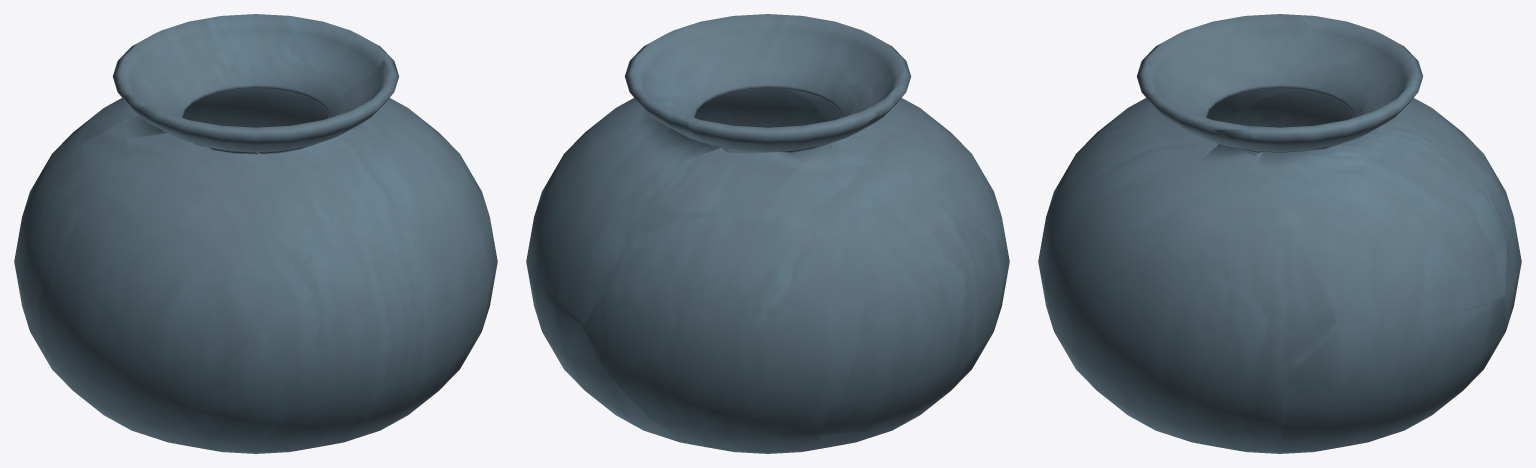
The model's file is Breakable_Ceramic_Vase_A_03.fbx.
3 renders of one model, left to right at view 1: azimuth 30°, elevation 25°; view 2: azimuth 150°, elevation 25°; view 3: azimuth 270°, elevation 25°, orthographic.
Visible parts, largest first — view 1: Breakable_Ceramic_Vase_A_03_Body, Breakable_Ceramic_Vase_A_03_cell, Breakable_Ceramic_Vase_A_03_cell.012, Breakable_Ceramic_Vase_A_03_cell.006, Breakable_Ceramic_Vase_A_03_cell.015, Breakable_Ceramic_Vase_A_03_cell.017, Breakable_Ceramic_Vase_A_03_cell.009, Breakable_Ceramic_Vase_A_03_cell.003; view 2: Breakable_Ceramic_Vase_A_03_cell.003, Breakable_Ceramic_Vase_A_03_Body, Breakable_Ceramic_Vase_A_03_cell, Breakable_Ceramic_Vase_A_03_cell.013, Breakable_Ceramic_Vase_A_03_cell.006, Breakable_Ceramic_Vase_A_03_cell.004, Breakable_Ceramic_Vase_A_03_cell.012, Breakable_Ceramic_Vase_A_03_cell.009, Breakable_Ceramic_Vase_A_03_cell.011, Breakable_Ceramic_Vase_A_03_cell.017, Breakable_Ceramic_Vase_A_03_cell.016, Breakable_Ceramic_Vase_A_03_cell.008 (+1 smaller); view 3: Breakable_Ceramic_Vase_A_03_Body, Breakable_Ceramic_Vase_A_03_cell.013, Breakable_Ceramic_Vase_A_03_cell.004, Breakable_Ceramic_Vase_A_03_cell.011, Breakable_Ceramic_Vase_A_03_cell.003, Breakable_Ceramic_Vase_A_03_cell.016, Breakable_Ceramic_Vase_A_03_cell.006, Breakable_Ceramic_Vase_A_03_cell.014, Breakable_Ceramic_Vase_A_03_cell.001, Breakable_Ceramic_Vase_A_03_cell.009, Breakable_Ceramic_Vase_A_03_cell.017, Breakable_Ceramic_Vase_A_03_cell.015 (+1 smaller).
Boxes of the visible parts, box(x1,y1,x2,y2) form: Breakable_Ceramic_Vase_A_03_Body: box(22, 14, 497, 453); Breakable_Ceramic_Vase_A_03_cell: box(14, 178, 119, 410); Breakable_Ceramic_Vase_A_03_cell.012: box(70, 78, 217, 189); Breakable_Ceramic_Vase_A_03_cell.006: box(260, 60, 390, 153); Breakable_Ceramic_Vase_A_03_cell.015: box(136, 104, 193, 141); Breakable_Ceramic_Vase_A_03_cell.017: box(112, 33, 214, 91); Breakable_Ceramic_Vase_A_03_cell.009: box(60, 108, 136, 160); Breakable_Ceramic_Vase_A_03_cell.003: box(25, 110, 100, 206); Breakable_Ceramic_Vase_A_03_cell.003: box(585, 213, 867, 442); Breakable_Ceramic_Vase_A_03_Body: box(530, 22, 1009, 452); Breakable_Ceramic_Vase_A_03_cell: box(842, 211, 1008, 429); Breakable_Ceramic_Vase_A_03_cell.013: box(531, 34, 720, 324); Breakable_Ceramic_Vase_A_03_cell.006: box(675, 14, 846, 104); Breakable_Ceramic_Vase_A_03_cell.004: box(526, 237, 678, 441); Breakable_Ceramic_Vase_A_03_cell.012: box(722, 102, 917, 217); Breakable_Ceramic_Vase_A_03_cell.009: box(691, 154, 860, 236); Breakable_Ceramic_Vase_A_03_cell.011: box(574, 88, 822, 143); Breakable_Ceramic_Vase_A_03_cell.017: box(690, 111, 868, 151); Breakable_Ceramic_Vase_A_03_cell.016: box(847, 26, 900, 85); Breakable_Ceramic_Vase_A_03_cell.008: box(691, 402, 936, 453); Breakable_Ceramic_Vase_A_03_Body: box(1038, 14, 1513, 453); Breakable_Ceramic_Vase_A_03_cell.013: box(1246, 76, 1506, 321); Breakable_Ceramic_Vase_A_03_cell.004: box(1281, 298, 1507, 453); Breakable_Ceramic_Vase_A_03_cell.011: box(1250, 171, 1336, 363); Breakable_Ceramic_Vase_A_03_cell.003: box(1435, 110, 1521, 325); Breakable_Ceramic_Vase_A_03_cell.016: box(1147, 25, 1206, 83); Breakable_Ceramic_Vase_A_03_cell.006: box(1145, 65, 1260, 166); Breakable_Ceramic_Vase_A_03_cell.014: box(1240, 14, 1289, 67); Breakable_Ceramic_Vase_A_03_cell.001: box(1207, 88, 1301, 121); Breakable_Ceramic_Vase_A_03_cell.009: box(1390, 108, 1452, 139); Breakable_Ceramic_Vase_A_03_cell.017: box(1304, 15, 1423, 107); Breakable_Ceramic_Vase_A_03_cell.015: box(1204, 21, 1256, 58).
Bounding box in the file's own units: 0.3694 × 0.2822 × 0.3694.
